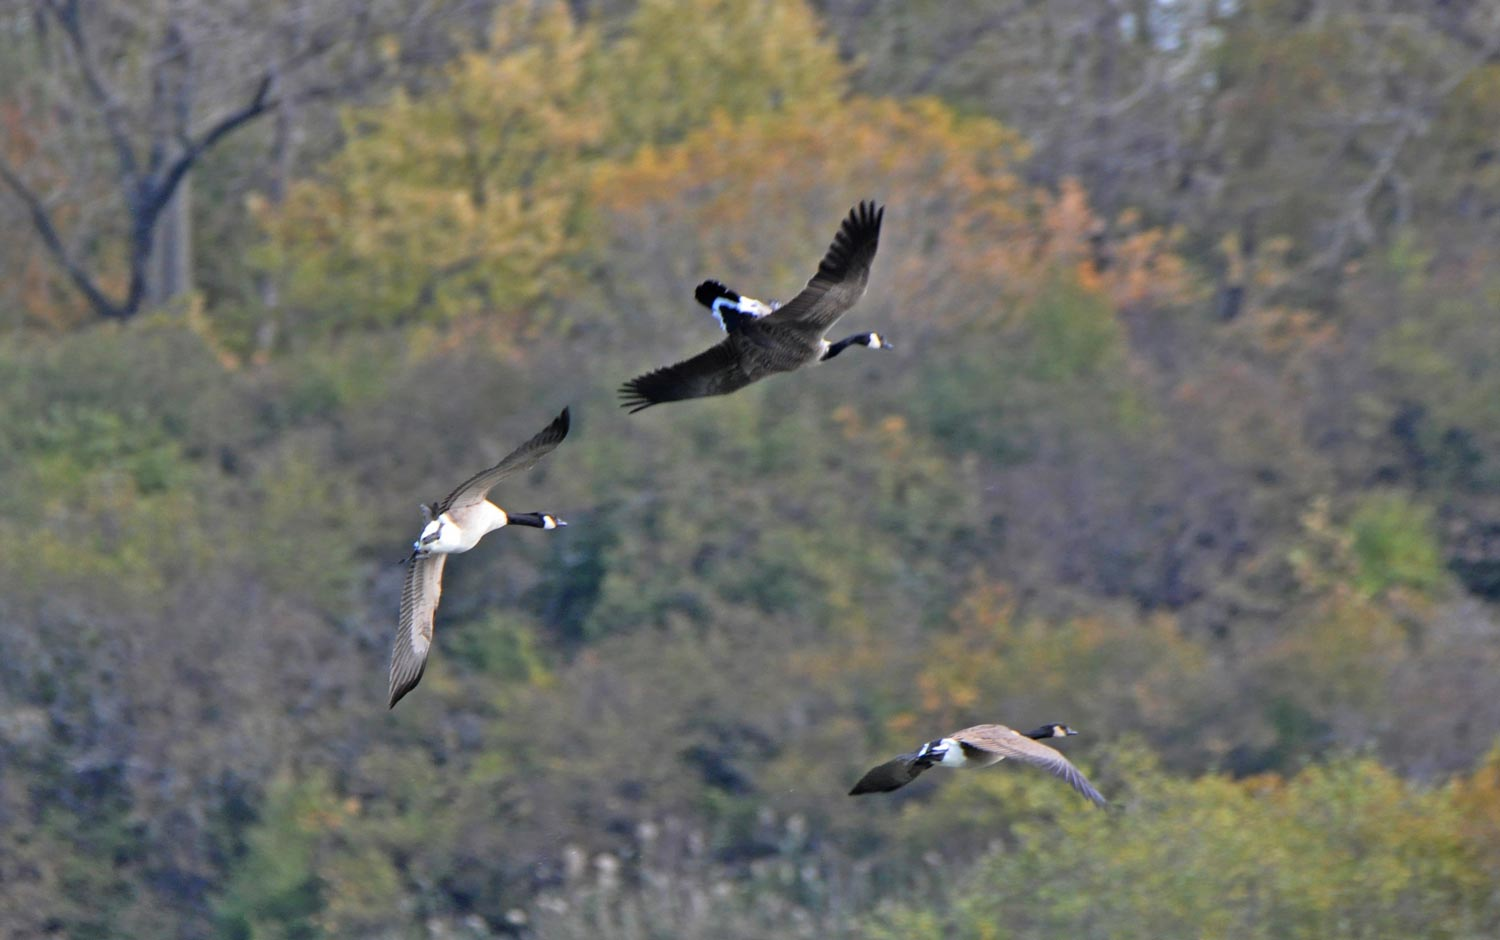goose: (614, 196, 897, 417), (387, 401, 575, 705), (842, 715, 1109, 811)
